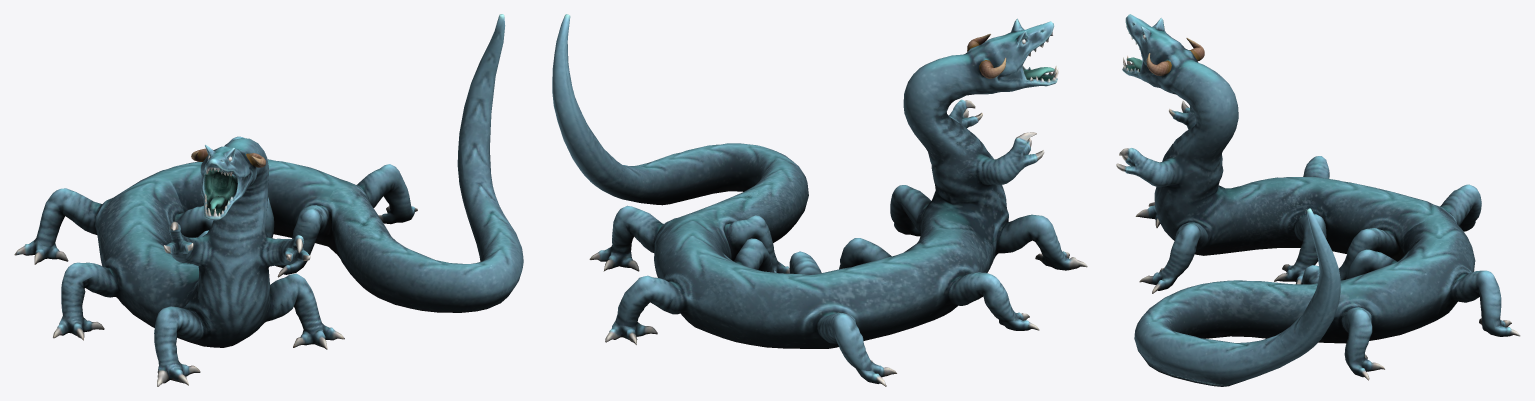
The model's file is Behir.glb.
The picture shows the model from 3 angles, left to right: view 1: azimuth 30°, elevation 25°; view 2: azimuth 150°, elevation 25°; view 3: azimuth 270°, elevation 25°; orthographic projection. The views are drawn at different scales.
Visible parts, largest first — view 1: body_low.001; view 2: body_low.001; view 3: body_low.001.
Boxes of the visible parts, x1,y1,x2,y2 form: body_low.001: [14, 14, 523, 386]; body_low.001: [552, 14, 1087, 386]; body_low.001: [1116, 14, 1520, 386].
Bounding box in the file's own units: 13.33 × 6.2 × 10.57.
Materials: 1 (1 with a texture image).
